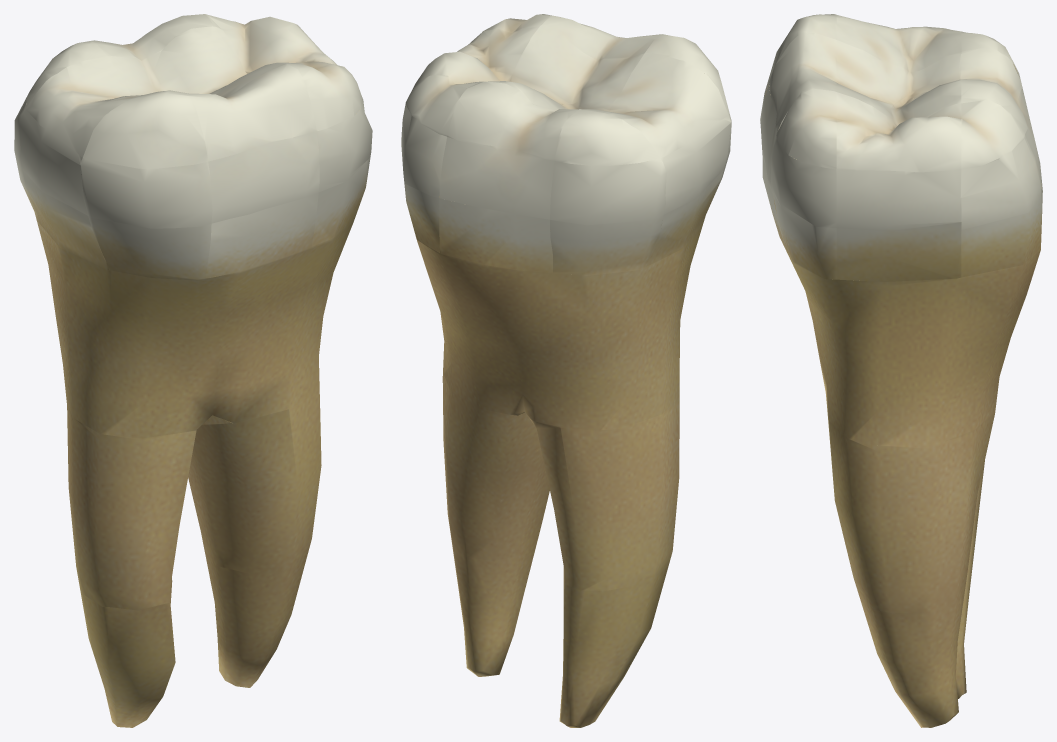
Rendered from Left_Lower_Second_Molar.glb.
The picture shows the model from 3 angles, left to right: view 1: azimuth 30°, elevation 25°; view 2: azimuth 150°, elevation 25°; view 3: azimuth 270°, elevation 25°; orthographic projection. The views are drawn at different scales.
Visible parts, largest first — view 1: Human_Teeth_Lower_Second_Molar_Geo; view 2: Human_Teeth_Lower_Second_Molar_Geo; view 3: Human_Teeth_Lower_Second_Molar_Geo.
Boxes of the visible parts, box(x1,y1,x2,y2) form: Human_Teeth_Lower_Second_Molar_Geo: box(14, 14, 372, 727); Human_Teeth_Lower_Second_Molar_Geo: box(401, 14, 731, 727); Human_Teeth_Lower_Second_Molar_Geo: box(760, 14, 1042, 727).
Bounding box in the file's own units: 1.4 × 3.14 × 1.21.
Materials: 30 (30 with a texture image).
